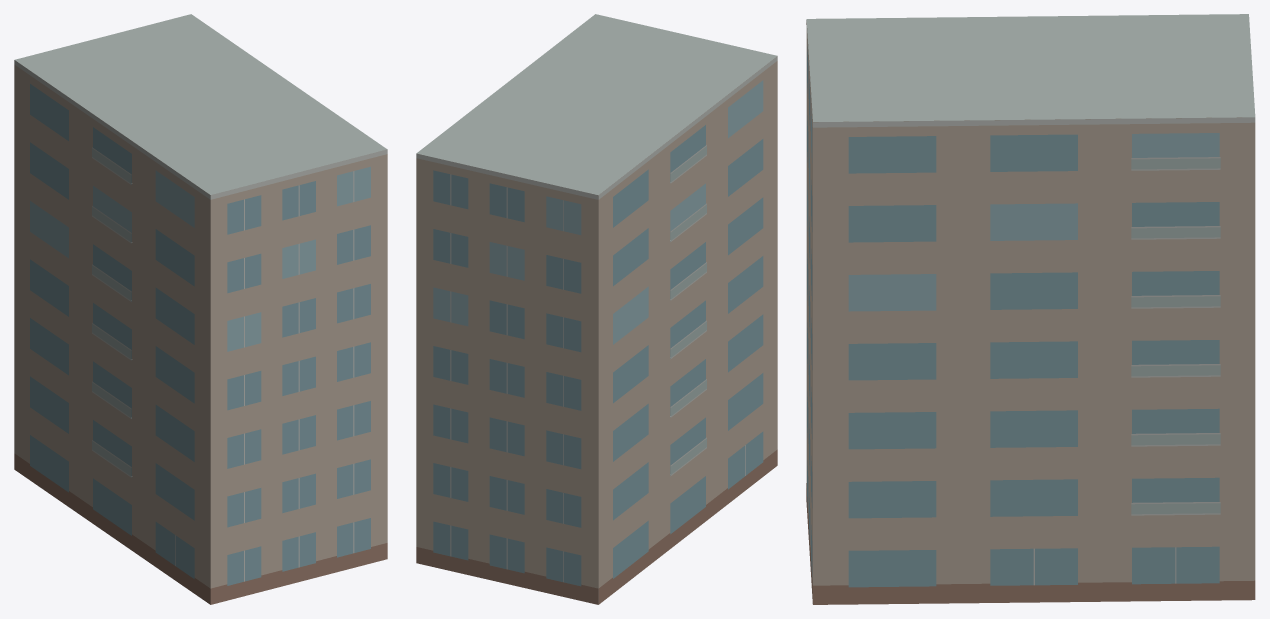
File: survey-upis-32900060.glb
The picture shows the model from 3 angles, left to right: view 1: azimuth 30°, elevation 25°; view 2: azimuth 150°, elevation 25°; view 3: azimuth 270°, elevation 25°; orthographic projection. The views are drawn at different scales.
Parts seen in each view (by area): view 1: survey-upis-32900060.tmp; view 2: survey-upis-32900060.tmp; view 3: survey-upis-32900060.tmp.
Boxes of the visible parts, x1=… form: survey-upis-32900060.tmp: x1=14, y1=14, x2=387, y2=604; survey-upis-32900060.tmp: x1=416, y1=14, x2=777, y2=604; survey-upis-32900060.tmp: x1=806, y1=14, x2=1255, y2=604.
Bounding box in the file's own units: 10.26 × 21.35 × 18.
